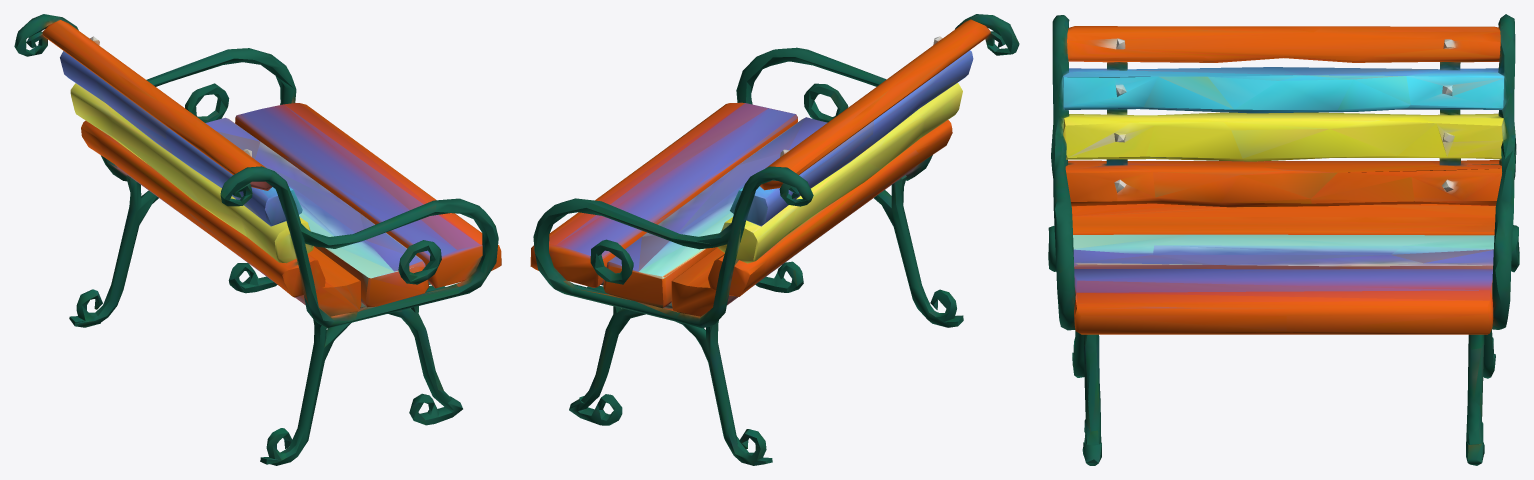
The model's file is bench.glb.
3 views of the same model, side by side, from view 1: azimuth 30°, elevation 25°; view 2: azimuth 150°, elevation 25°; view 3: azimuth 270°, elevation 25° (orthographic). The views are drawn at different scales.
Visible parts, largest first — view 1: tripo_node_c0a65f46-6c51-4850-a3a6-916ae3d97299; view 2: tripo_node_c0a65f46-6c51-4850-a3a6-916ae3d97299; view 3: tripo_node_c0a65f46-6c51-4850-a3a6-916ae3d97299.
Part boxes in pixels (x1=…): tripo_node_c0a65f46-6c51-4850-a3a6-916ae3d97299: x1=14, y1=14, x2=501, y2=465; tripo_node_c0a65f46-6c51-4850-a3a6-916ae3d97299: x1=530, y1=14, x2=1019, y2=465; tripo_node_c0a65f46-6c51-4850-a3a6-916ae3d97299: x1=1048, y1=14, x2=1519, y2=465.
Size of the model in its own units: 0.8711 by 0.9002 by 1.15.
1 material, 1 textured.
